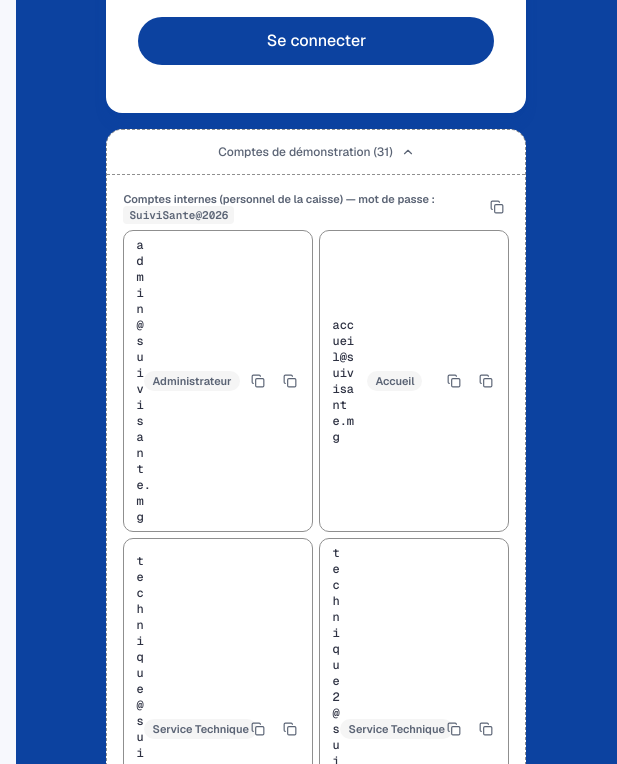
Scenario: Page de connexion › environnement de démonstration (NEXT_PUBLIC_ENV_DEMO=OUI) › copie l’identifiant via le bouton de copie de la carte
(page scrolled)
Click the button named "Copier l'identifiant admin@suivisante.mg" at (258, 381), box [242,365,274,397]
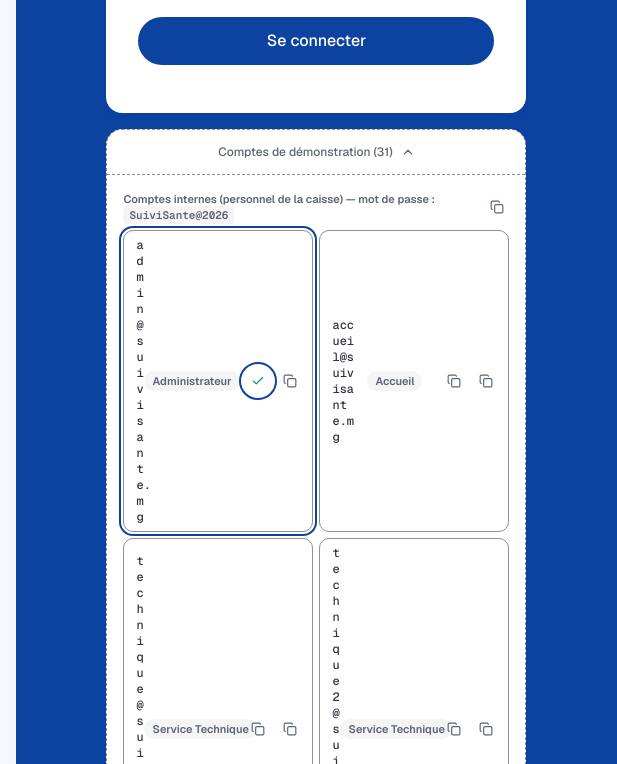
Now the button named "Copié" is shown, box [242,365,274,397]
